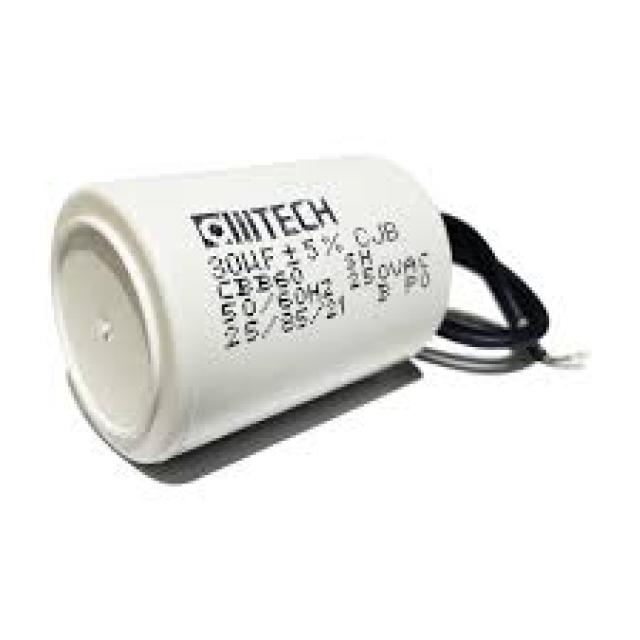Capacitor: (48, 154, 543, 469)
